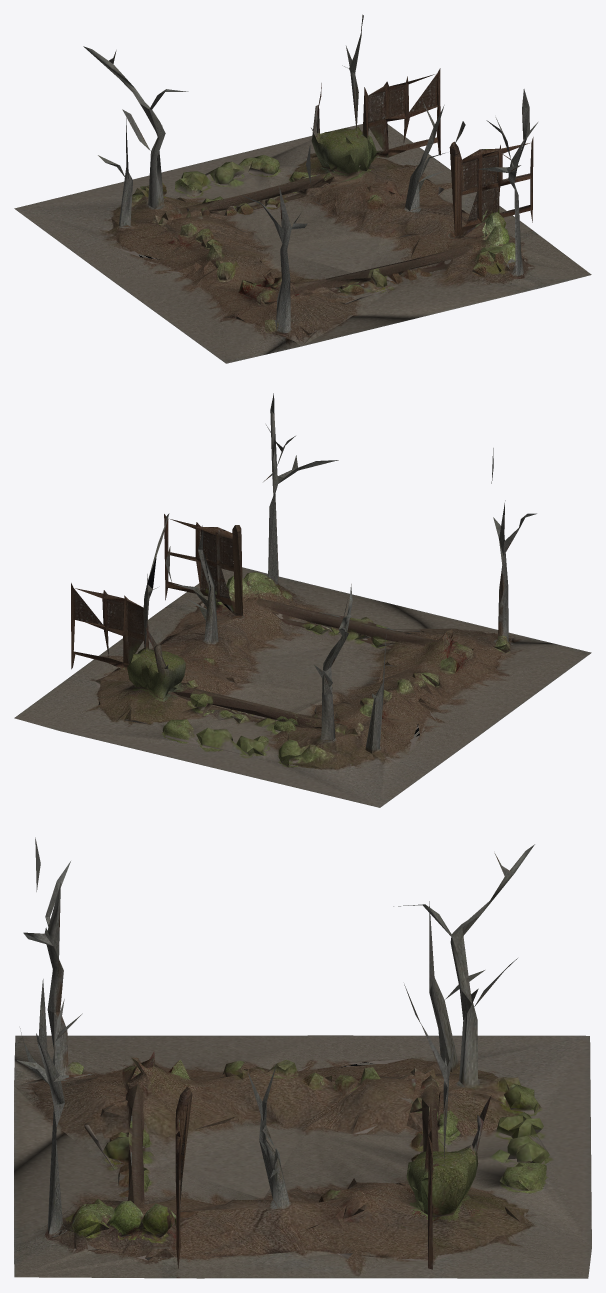
The model's file is Meshy_AI_Trees_are_sparse_thi_0822235203_texture.obj.
3 renders of one model, top to bottom at view 1: azimuth 30°, elevation 25°; view 2: azimuth 150°, elevation 25°; view 3: azimuth 270°, elevation 25°, orthographic. The views are drawn at different scales.
Visible parts, largest first — view 1: Meshy_AI_Trees_are_sparse_thi_0822235203_texture; view 2: Meshy_AI_Trees_are_sparse_thi_0822235203_texture; view 3: Meshy_AI_Trees_are_sparse_thi_0822235203_texture.
Part boxes in pixels (bbox=[...]): Meshy_AI_Trees_are_sparse_thi_0822235203_texture: bbox=[14, 14, 591, 363]; Meshy_AI_Trees_are_sparse_thi_0822235203_texture: bbox=[14, 393, 591, 807]; Meshy_AI_Trees_are_sparse_thi_0822235203_texture: bbox=[14, 837, 591, 1278].
Bounding box in the file's own units: 1.85 × 0.9547 × 1.86.
